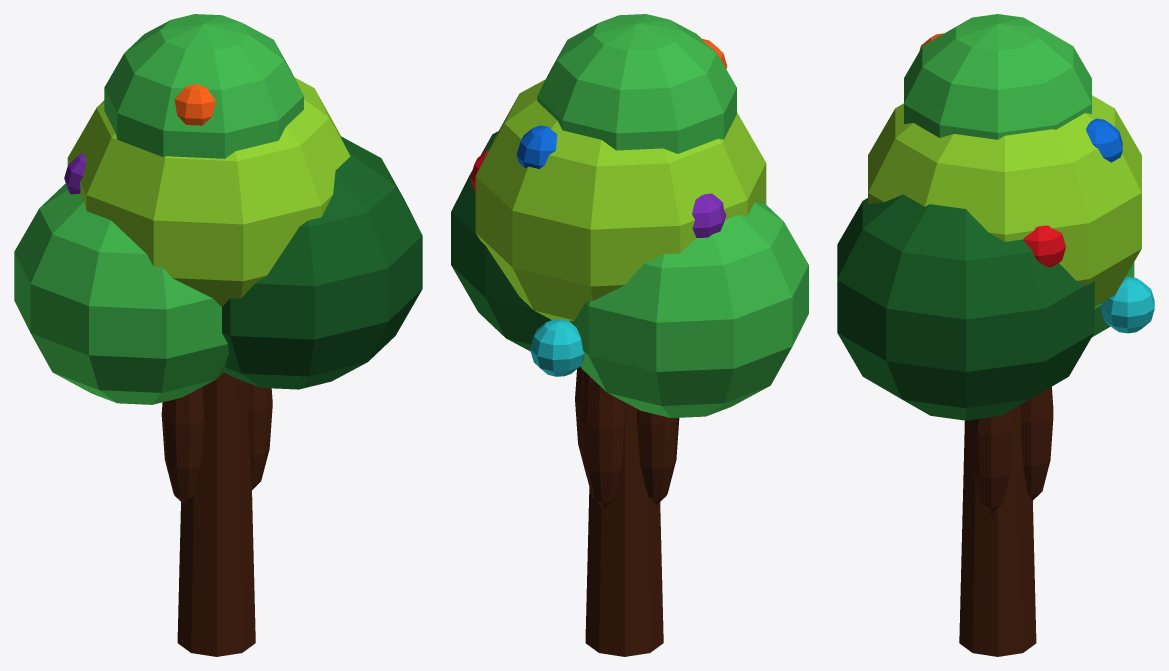
Rendered from CandyTree_Gumdrops.obj.
The picture shows the model from 3 angles, left to right: view 1: azimuth 30°, elevation 25°; view 2: azimuth 150°, elevation 25°; view 3: azimuth 270°, elevation 25°; orthographic projection.
Parts seen in each view (by area): view 1: CandyCanopy_3, CandyCanopy_1, CandyCanopy_2, CandyCanopy_4, TreeTrunk, Branch_1, Branch_2, FruitCandy_4, FruitCandy_6; view 2: CandyCanopy_3, CandyCanopy_1, CandyCanopy_4, TreeTrunk, CandyCanopy_2, Branch_3, Branch_1, FruitCandy_7, FruitCandy_5, FruitCandy_6, Branch_2; view 3: CandyCanopy_2, CandyCanopy_3, CandyCanopy_4, TreeTrunk, Branch_2, Branch_3, FruitCandy_7, FruitCandy_3, FruitCandy_5.
Part boxes in pixels (x1,y1,x2,y2): CandyCanopy_3: (67,77,350,306); CandyCanopy_1: (14,184,228,404); CandyCanopy_2: (222,136,422,389); CandyCanopy_4: (104,14,303,158); TreeTrunk: (177,372,255,656); Branch_1: (161,387,204,504); Branch_2: (247,382,272,489); FruitCandy_4: (174,84,215,125); FruitCandy_6: (64,153,86,194); CandyCanopy_3: (475,79,766,320); CandyCanopy_1: (569,202,808,417); CandyCanopy_4: (537,14,736,153); TreeTrunk: (585,402,663,656); CandyCanopy_2: (451,131,551,351); Branch_3: (580,372,625,508); Branch_1: (636,409,679,505); FruitCandy_7: (530,319,584,376); FruitCandy_5: (516,125,557,168); FruitCandy_6: (692,193,726,237); Branch_2: (575,366,586,474); CandyCanopy_2: (837,194,1094,420); CandyCanopy_3: (868,95,1141,306); CandyCanopy_4: (904,14,1091,139); TreeTrunk: (959,405,1036,656); Branch_2: (969,409,1013,513); Branch_3: (1020,386,1053,499); FruitCandy_7: (1100,276,1154,333); FruitCandy_3: (1023,225,1065,267); FruitCandy_5: (1086,118,1122,162).
Size of the model in its own units: 2.23 by 3.79 by 1.79.
